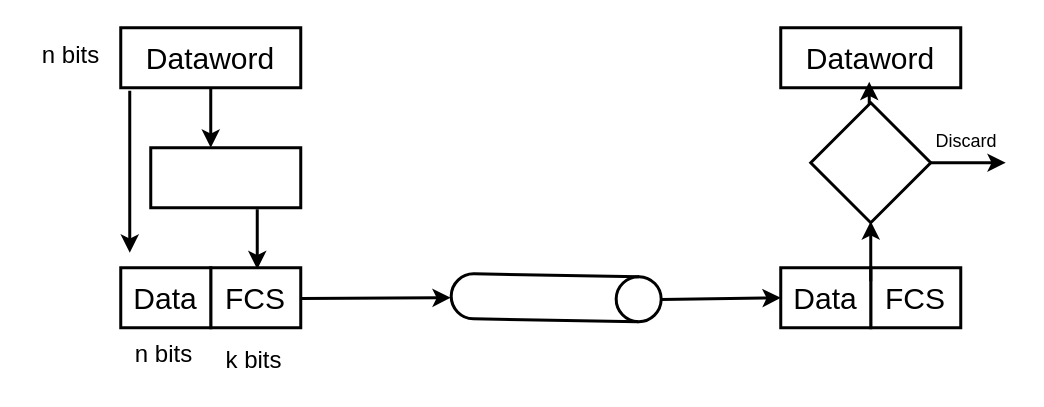
Image size: 1044x407. Some labels were removed from this diagram. Each missing label, with the centre of its shape:
"Generator" belongs at (x=225, y=177).
"Same?" belongs at (x=870, y=162).
